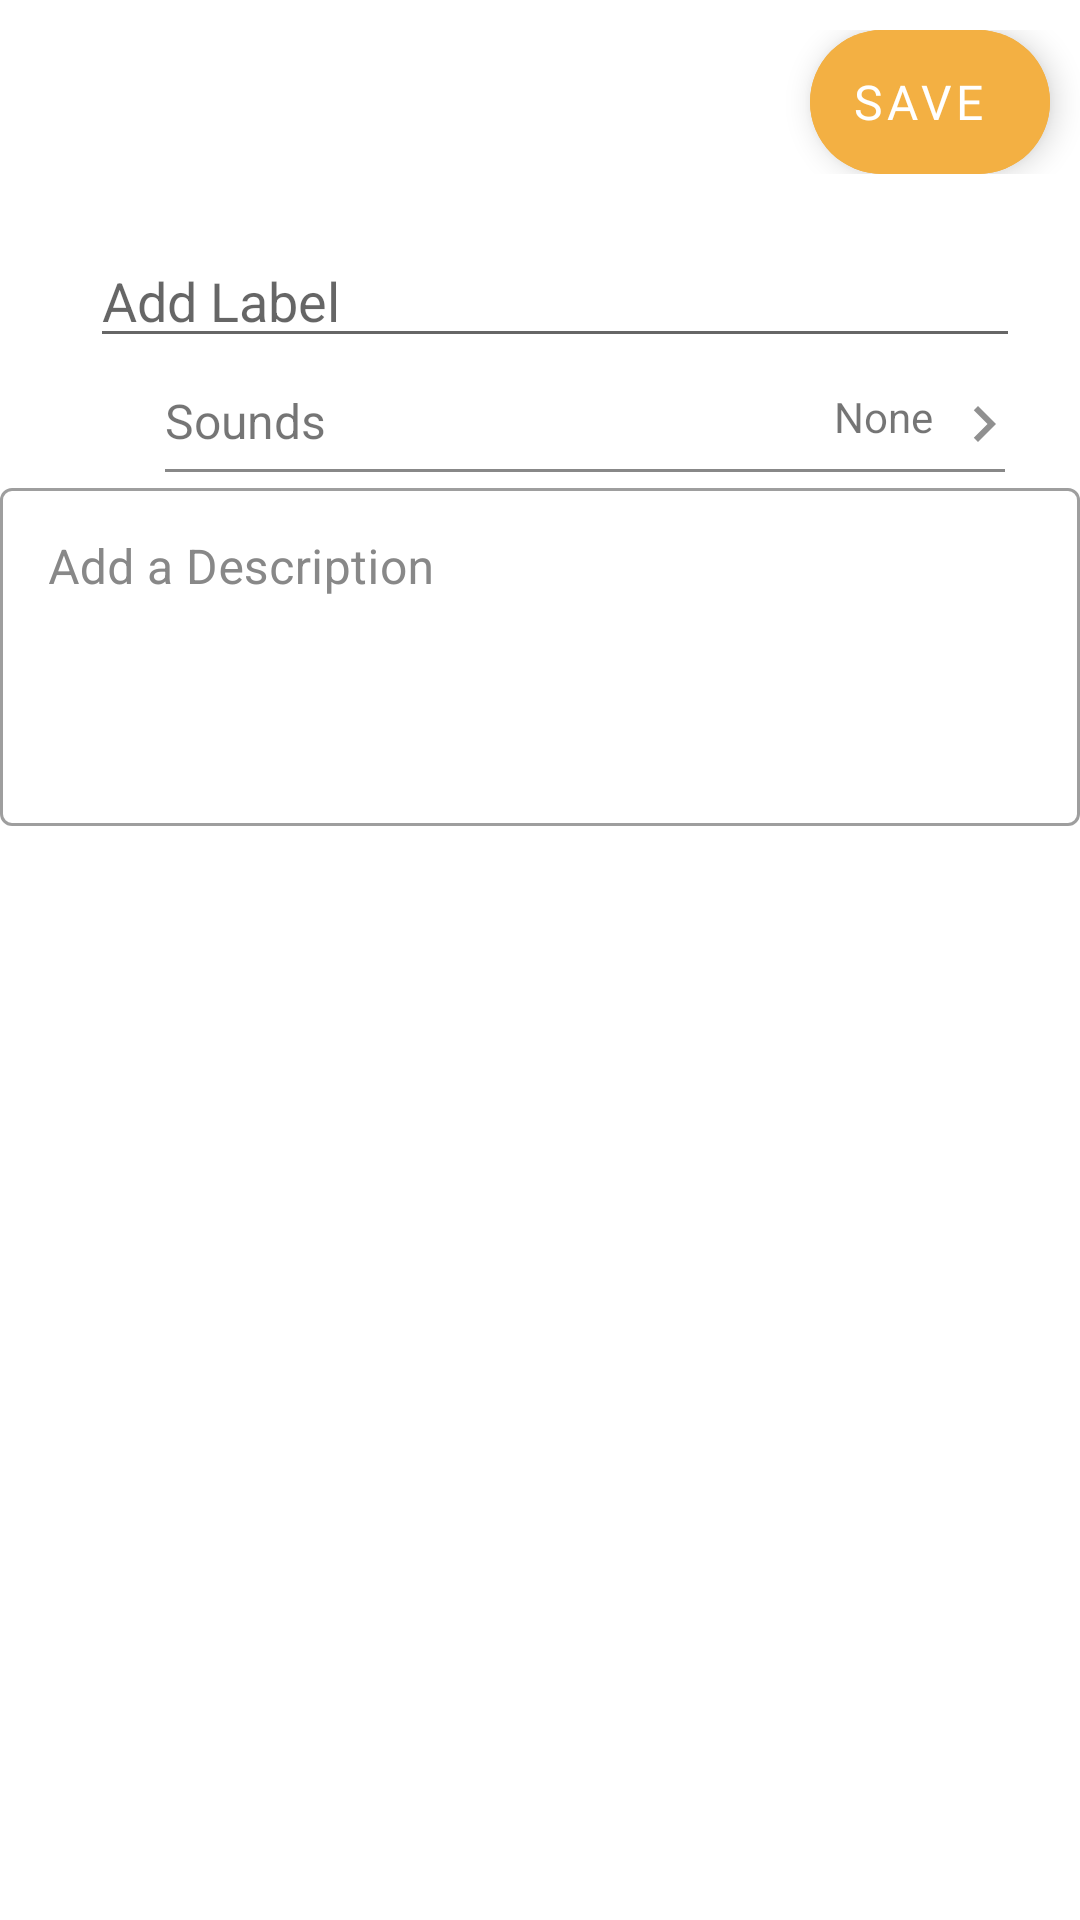

Icon bounding boxes for this 1080px x 1920px phone screenshot, format (x1, y1, x2, y2):
right chevron: (974, 406, 996, 442)
